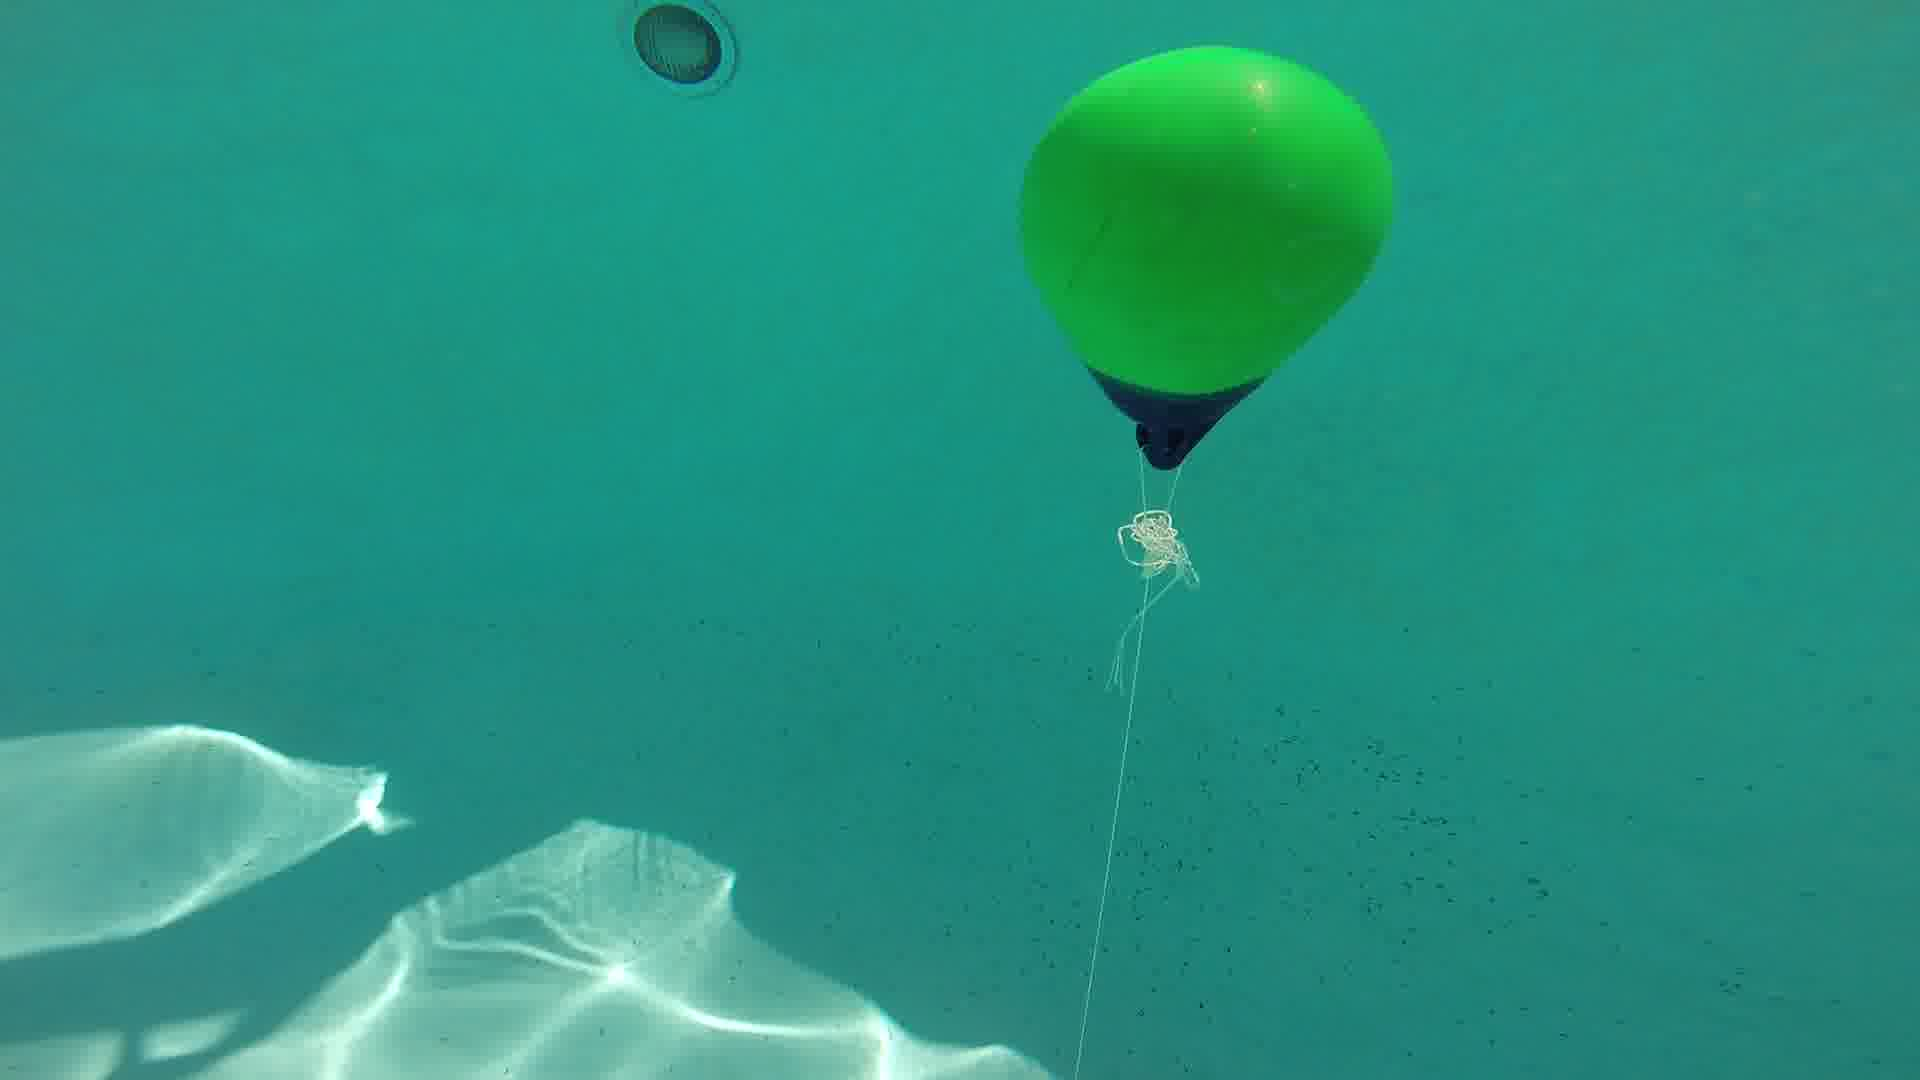yellow_buoy: (1023, 30, 1402, 477)
